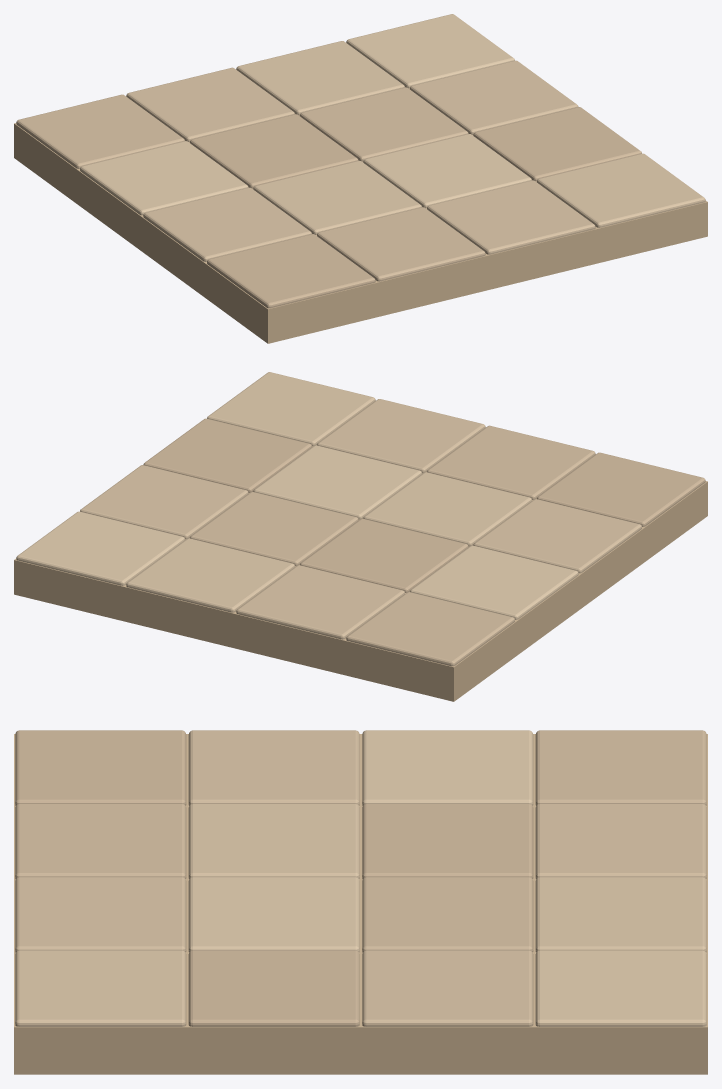
Rendered from CourtyardPavers_2m.fbx.
The picture shows the model from 3 angles, top to bottom: view 1: azimuth 30°, elevation 25°; view 2: azimuth 150°, elevation 25°; view 3: azimuth 270°, elevation 25°; orthographic projection. The views are drawn at different scales.
Parts seen in each view (by area): view 1: Support, Individual stone, Individual stone.008, Individual stone.004, Individual stone.012, Individual stone.001, Individual stone.003, Individual stone.002, Individual stone.006, Individual stone.010, Individual stone.013, Individual stone.005 (+5 smaller); view 2: Support, Individual stone.003, Individual stone.011, Individual stone.007, Individual stone.015, Individual stone.002, Individual stone, Individual stone.001, Individual stone.005, Individual stone.009, Individual stone.014, Individual stone.006 (+5 smaller); view 3: Support, Individual stone.012, Individual stone.013, Individual stone.014, Individual stone.015, Individual stone.004, Individual stone.005, Individual stone.006, Individual stone.007, Individual stone.008, Individual stone.009, Individual stone.010 (+5 smaller).
Boxes of the visible parts, bbox=[...] form: Support: bbox=[14, 88, 707, 343]; Individual stone: bbox=[207, 234, 375, 308]; Individual stone.008: bbox=[427, 180, 595, 254]; Individual stone.004: bbox=[317, 207, 485, 281]; Individual stone.012: bbox=[537, 153, 705, 227]; Individual stone.001: bbox=[143, 187, 311, 261]; Individual stone.003: bbox=[16, 94, 184, 168]; Individual stone.002: bbox=[80, 141, 248, 215]; Individual stone.006: bbox=[189, 114, 358, 188]; Individual stone.010: bbox=[299, 87, 468, 161]; Individual stone.013: bbox=[473, 107, 641, 181]; Individual stone.005: bbox=[253, 160, 421, 234]; Support: bbox=[14, 446, 707, 701]; Individual stone.003: bbox=[346, 592, 514, 666]; Individual stone.011: bbox=[126, 538, 294, 612]; Individual stone.007: bbox=[236, 565, 404, 639]; Individual stone.015: bbox=[16, 511, 184, 585]; Individual stone.002: bbox=[410, 545, 578, 619]; Individual stone: bbox=[537, 452, 705, 526]; Individual stone.001: bbox=[473, 499, 641, 573]; Individual stone.005: bbox=[363, 472, 532, 546]; Individual stone.009: bbox=[253, 445, 422, 519]; Individual stone.014: bbox=[80, 465, 248, 539]; Individual stone.006: bbox=[300, 518, 468, 592]; Support: bbox=[14, 734, 707, 1074]; Individual stone.012: bbox=[15, 950, 186, 1026]; Individual stone.013: bbox=[188, 950, 359, 1026]; Individual stone.014: bbox=[362, 950, 533, 1026]; Individual stone.015: bbox=[535, 950, 706, 1026]; Individual stone.004: bbox=[15, 803, 186, 878]; Individual stone.005: bbox=[188, 803, 359, 878]; Individual stone.006: bbox=[362, 803, 533, 878]; Individual stone.007: bbox=[535, 803, 706, 878]; Individual stone.008: bbox=[15, 877, 186, 952]; Individual stone.009: bbox=[188, 877, 359, 952]; Individual stone.010: bbox=[362, 877, 533, 952].
Bounding box in the file's own units: 2 × 0.168 × 2.
